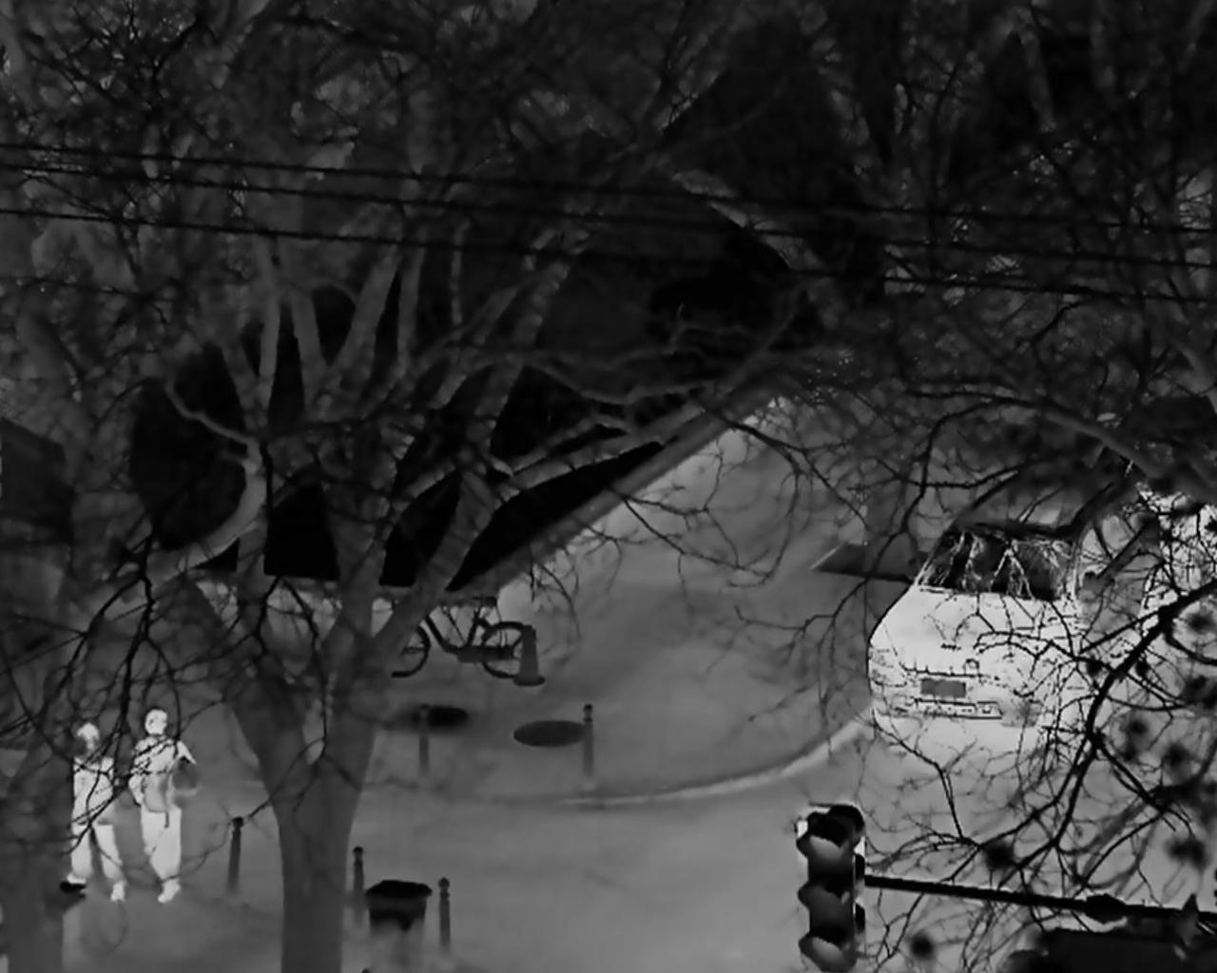person: (128, 709, 200, 903), (73, 721, 125, 902)
